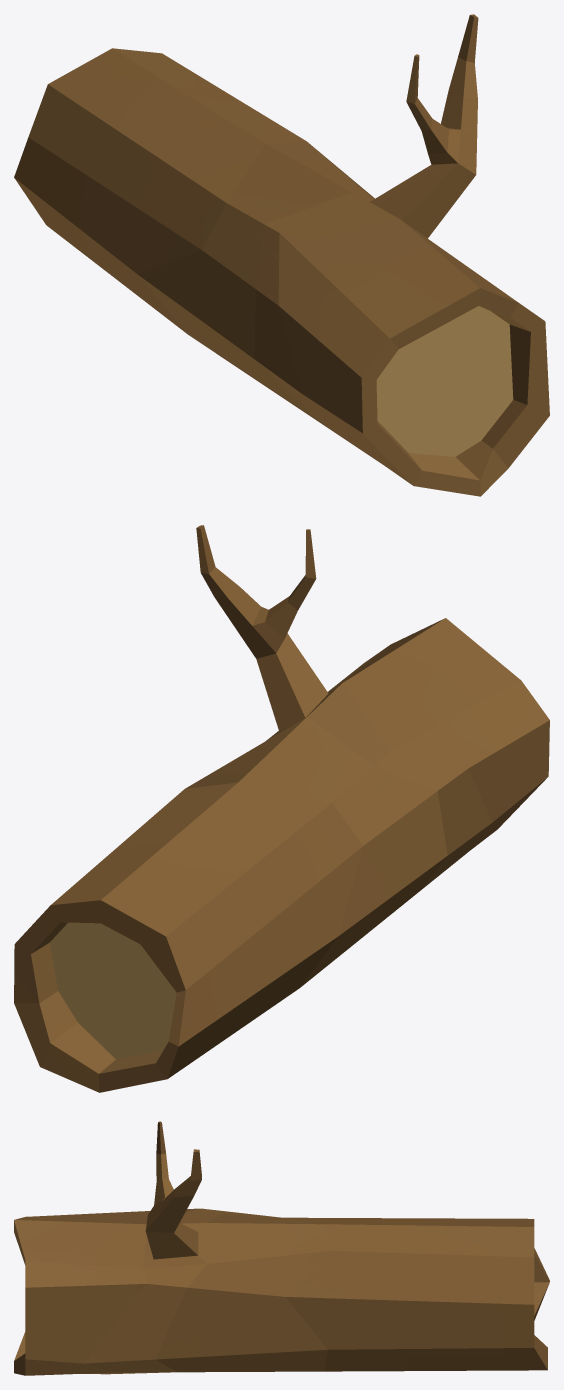
Rendered from log_4.glb.
3 views of the same model, one above another, from view 1: azimuth 30°, elevation 25°; view 2: azimuth 150°, elevation 25°; view 3: azimuth 270°, elevation 25° (orthographic). The views are drawn at different scales.
Visible parts, largest first — view 1: log_4; view 2: log_4; view 3: log_4.
Boxes of the visible parts, bbox=[...] form: log_4: bbox=[14, 14, 549, 496]; log_4: bbox=[14, 525, 549, 1092]; log_4: bbox=[14, 1121, 549, 1375].
Size of the model in its own units: 0.1991 by 0.2883 by 0.5271.
Materials: 1 (1 with a texture image).
